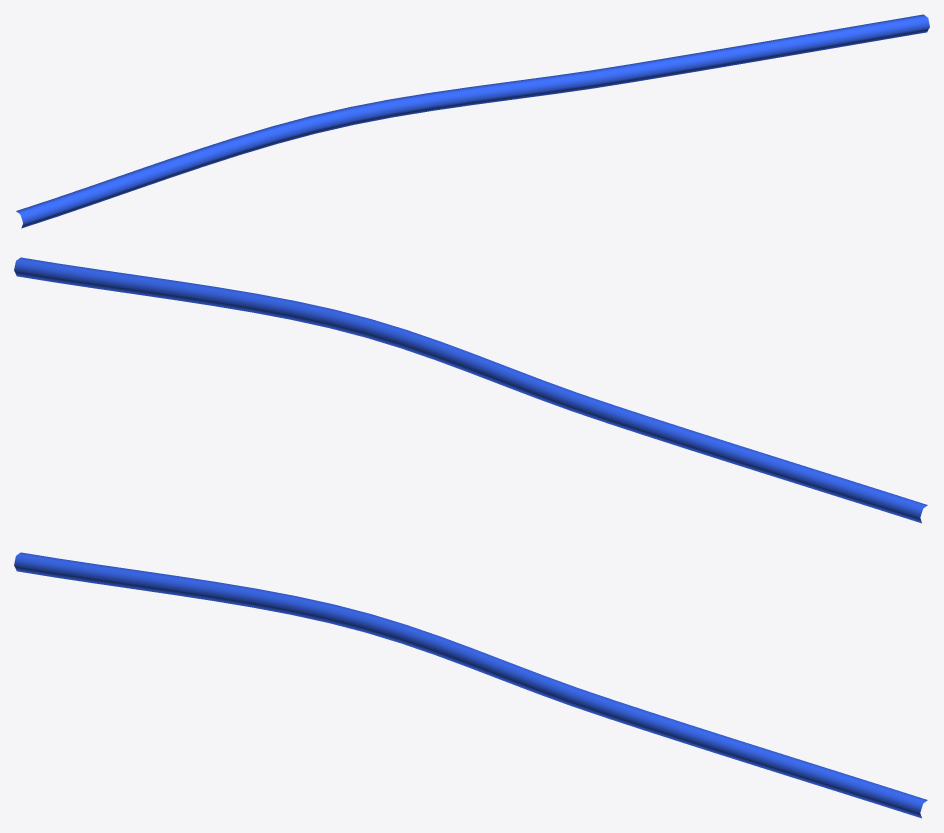
Rendered from lan-cable.glb.
3 renders of one model, top to bottom at view 1: azimuth 30°, elevation 25°; view 2: azimuth 150°, elevation 25°; view 3: azimuth 330°, elevation 25°, orthographic. The views are drawn at different scales.
Size of the model in its own units: 2 by 0.0869 by 0.1523.
